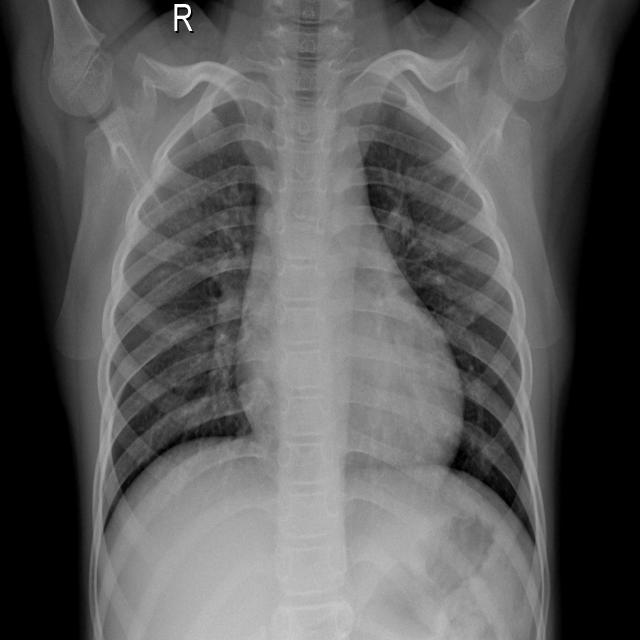no-pneumonia: (359, 102, 543, 542), (101, 101, 264, 533)
